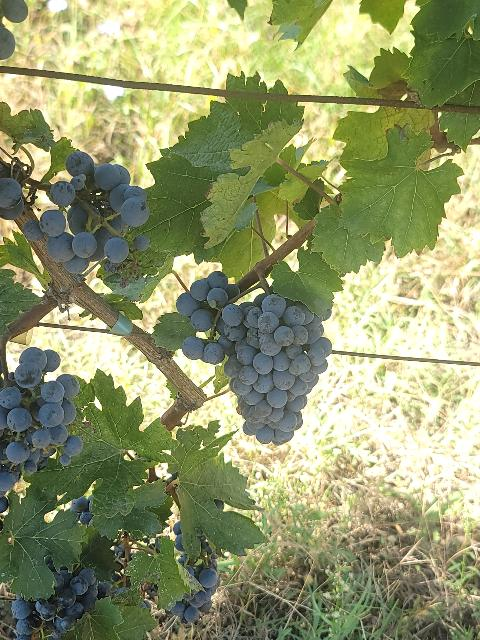grapes: (176, 271, 332, 445), (24, 151, 150, 274), (0, 348, 84, 512)
